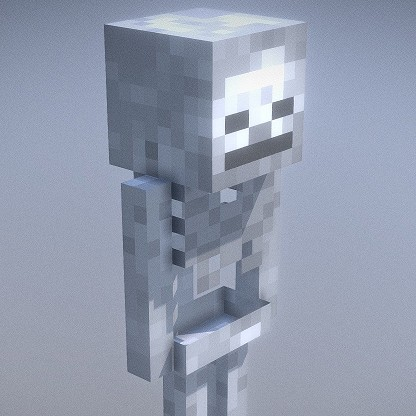skeleton: (93, 4, 317, 356)
